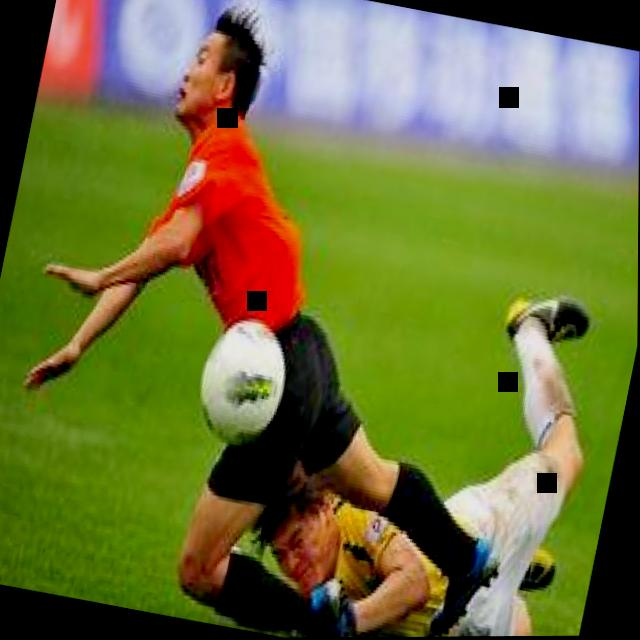Fall-Detected: (216, 210, 639, 639)
